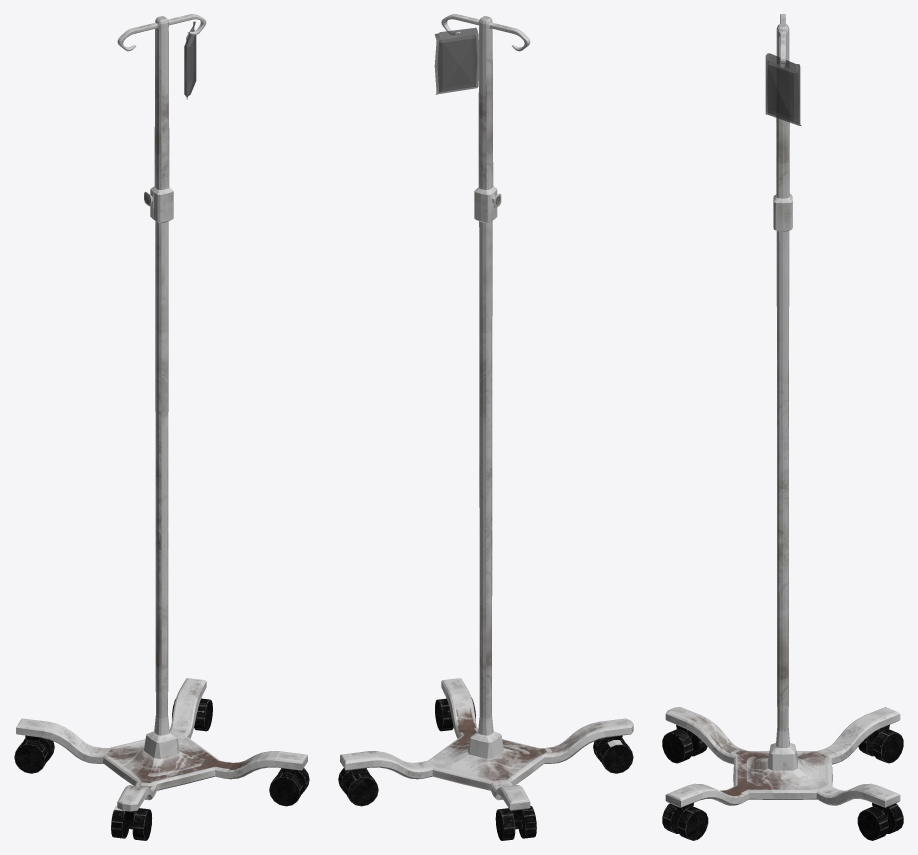
Rendered from sketchfab-crutch-and-iv-drip.glb.
The picture shows the model from 3 angles, left to right: view 1: azimuth 30°, elevation 25°; view 2: azimuth 150°, elevation 25°; view 3: azimuth 270°, elevation 25°; orthographic projection.
Visible parts, largest first — view 1: IV Drip; view 2: IV Drip; view 3: IV Drip.
Boxes of the visible parts, left/top/right/bottom form: IV Drip: left=14, top=14, right=309, bottom=840; IV Drip: left=338, top=14, right=633, bottom=840; IV Drip: left=662, top=14, right=903, bottom=840.
Size of the model in its own units: 108 by 399 by 113.
2 materials, 1 textured.
